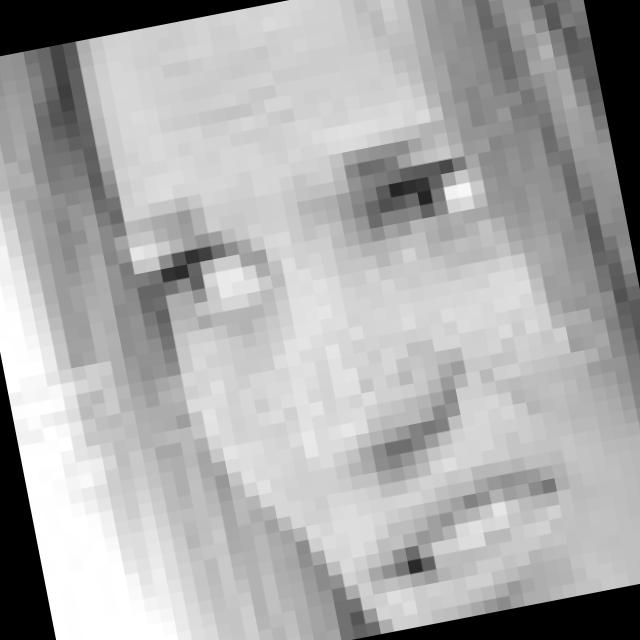disgust: (123, 106, 594, 640)
